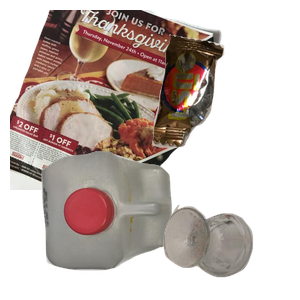glass: (161, 202, 300, 300)
paper: (10, 10, 224, 190)
plastic: (39, 149, 203, 300)
trash: (150, 32, 300, 172)
